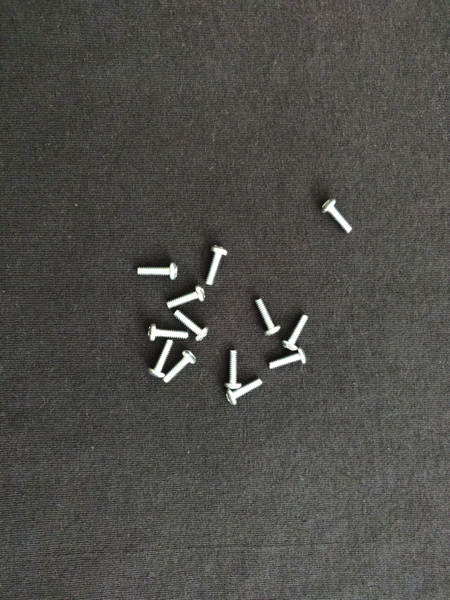shortscrew: (317, 196, 359, 240), (170, 306, 212, 343), (253, 296, 285, 338), (227, 376, 267, 407), (164, 349, 197, 385), (141, 321, 194, 343), (172, 277, 206, 311), (147, 339, 175, 379), (284, 309, 310, 352), (206, 244, 230, 289), (270, 348, 308, 375), (133, 260, 182, 280), (227, 348, 243, 389)
